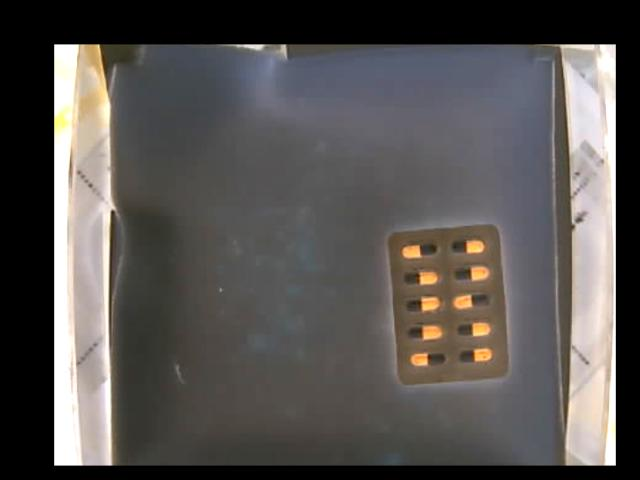Medicine: (389, 222, 509, 383)
